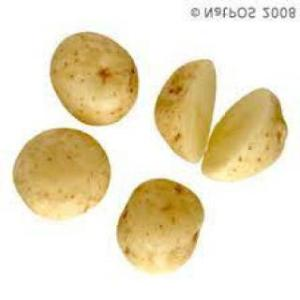potato: (11, 127, 113, 224), (115, 176, 207, 274), (50, 30, 142, 126), (212, 72, 288, 186), (157, 57, 213, 162)
